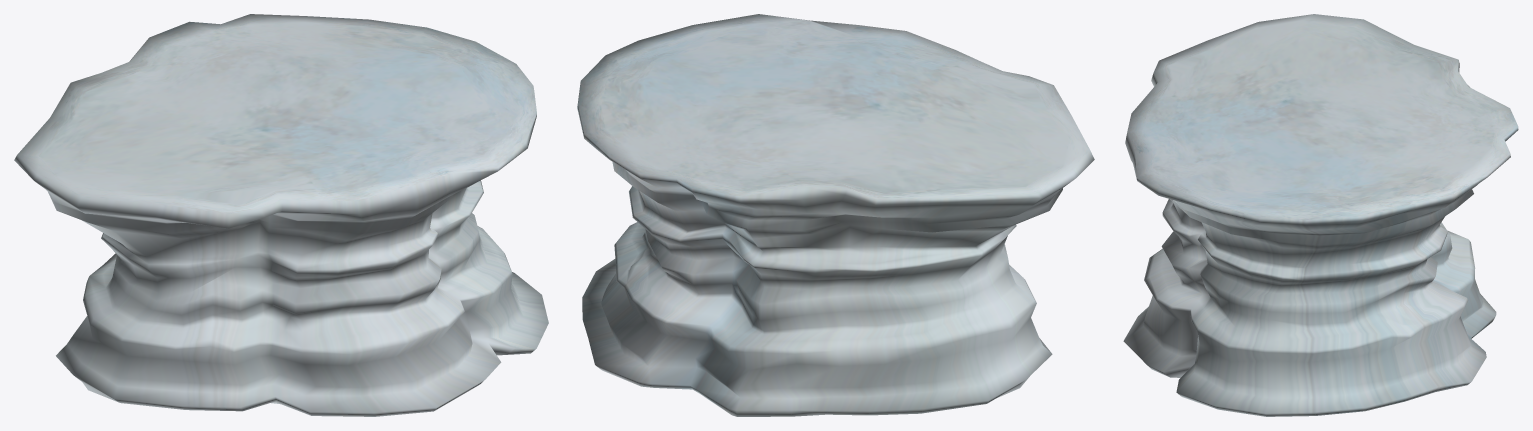
The model's file is P_RockDesert_Layered08.obj.
3 renders of one model, left to right at view 1: azimuth 30°, elevation 25°; view 2: azimuth 150°, elevation 25°; view 3: azimuth 270°, elevation 25°, orthographic. The views are drawn at different scales.
Size of the model in its own units: 68.06 by 32.44 by 54.41.
